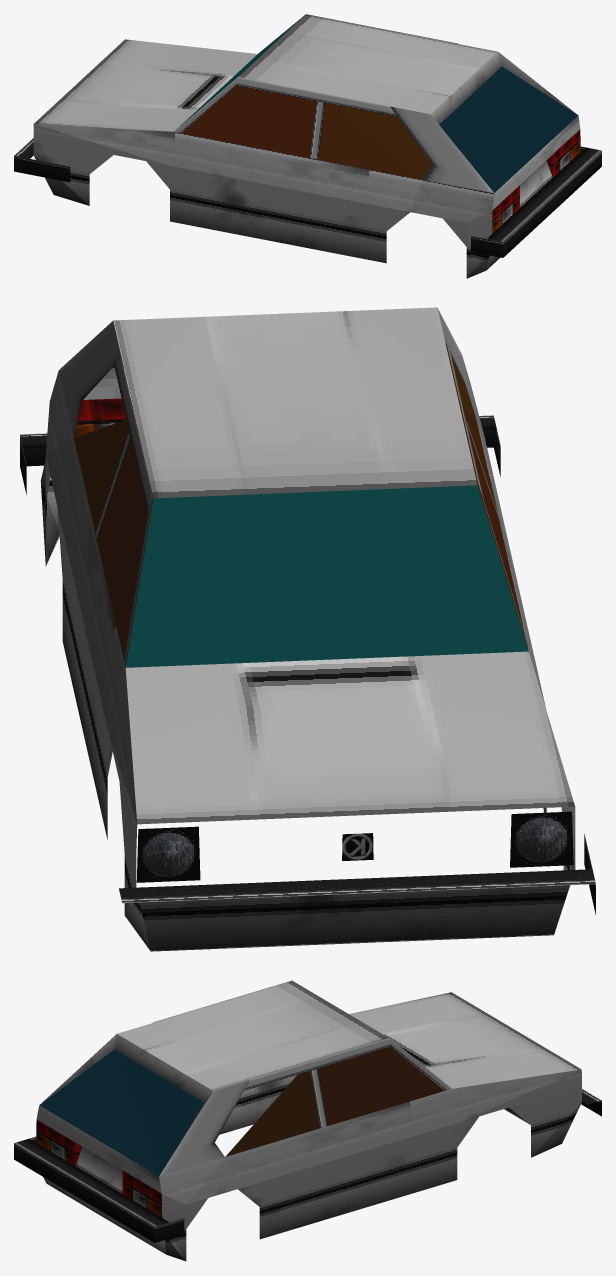
The model's file is primary_051.glb.
3 views of the same model, one above another, from view 1: azimuth 30°, elevation 25°; view 2: azimuth 150°, elevation 25°; view 3: azimuth 270°, elevation 25° (orthographic). The views are drawn at different scales.
Parts seen in each view (by area): view 1: Object; view 2: Object; view 3: Object.
Boxes of the visible parts, left/top/right/bottom form: Object: left=14, top=14, right=601, bottom=278; Object: left=20, top=307, right=595, bottom=951; Object: left=14, top=980, right=601, bottom=1261.
Size of the model in its own units: 5.19 by 1.64 by 5.91.
Materials: 40 (40 with a texture image).
